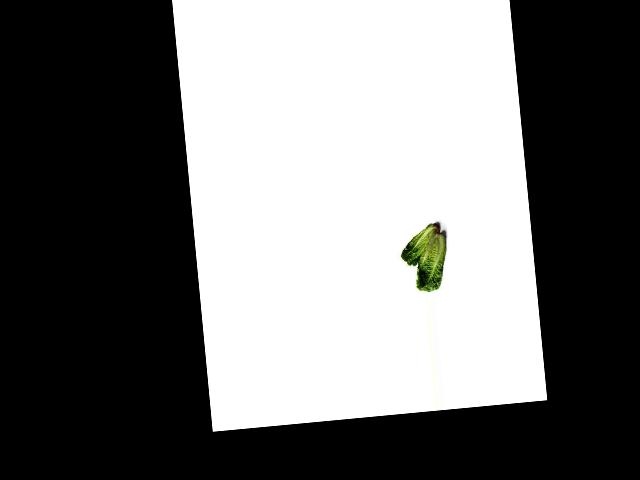lettuce: (397, 219, 444, 267)
